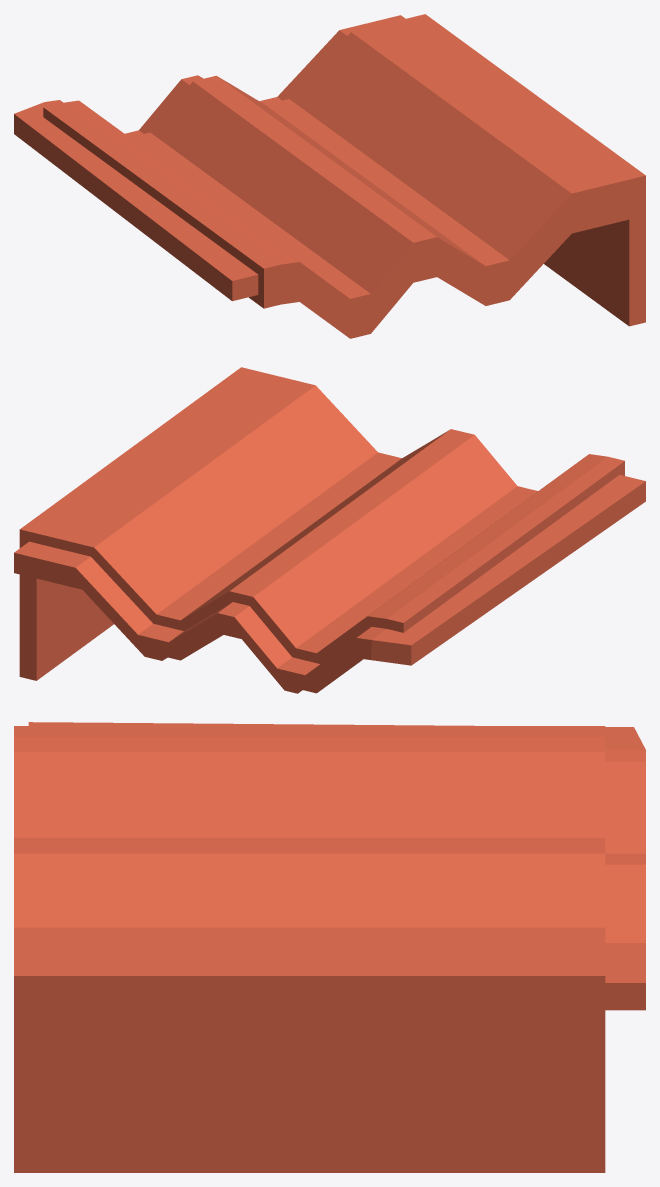
The model's file is Rooftileverge.fbx.
3 views of the same model, one above another, from view 1: azimuth 30°, elevation 25°; view 2: azimuth 150°, elevation 25°; view 3: azimuth 270°, elevation 25° (orthographic). The views are drawn at different scales.
Visible parts, largest first — view 1: Cube; view 2: Cube; view 3: Cube.
Part boxes in pixels (bbox=[...]): Cube: bbox=[14, 14, 645, 338]; Cube: bbox=[14, 367, 645, 693]; Cube: bbox=[14, 722, 645, 1172].
Size of the model in its own units: 214 by 73.46 by 214.
